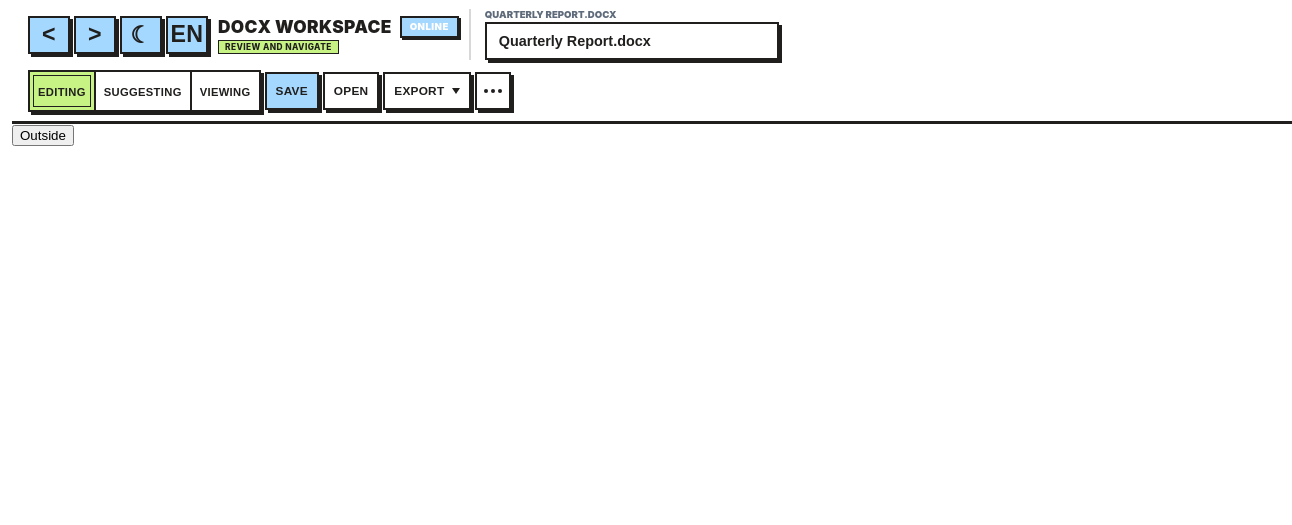
Header action menus › disables reload in the utility menu when reloading is unavailable
Click the button named "more actions": (493, 91) [475,72,511,110]
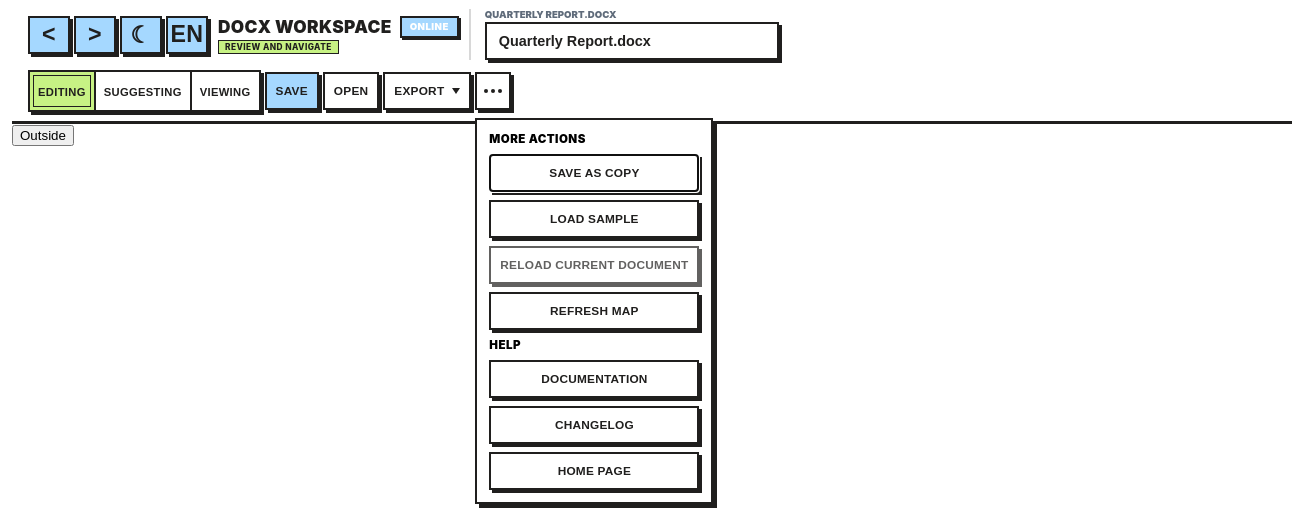
Now the menu item "Reload Current Document" is disabled, box [489,246,699,284]
